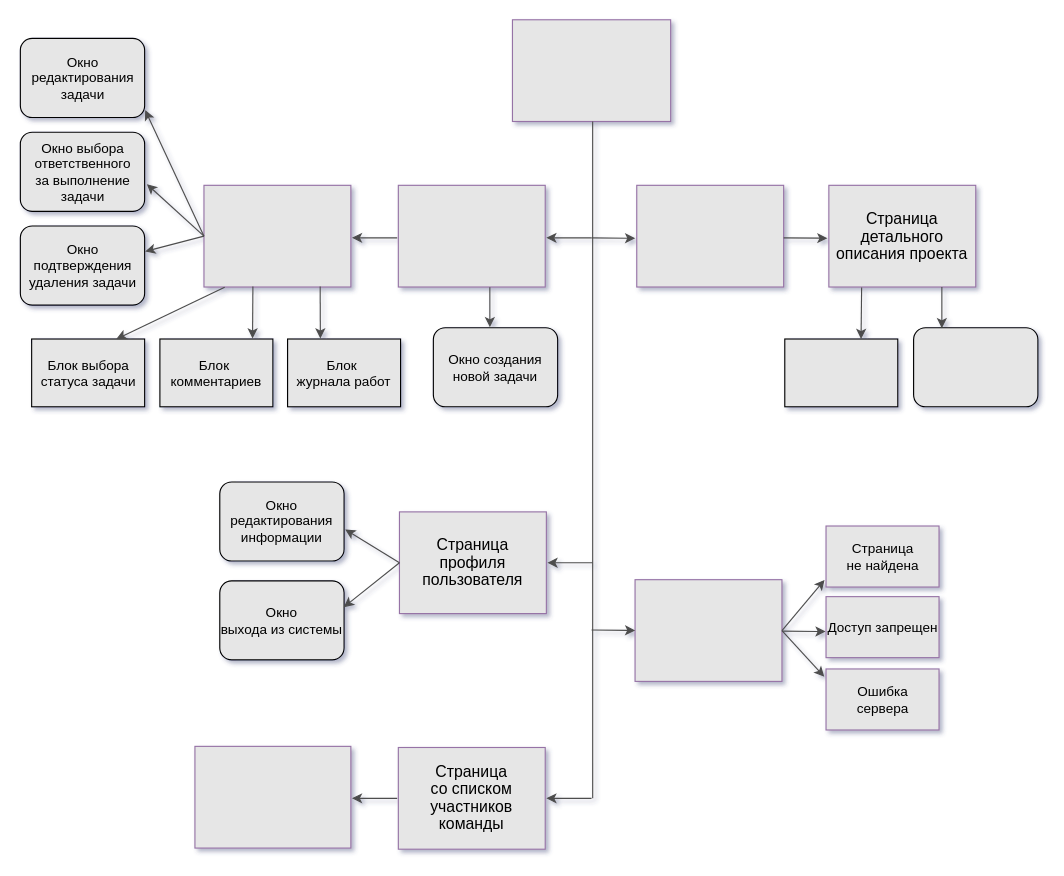
The diagram is 1064 pixels wide and 876 high, and some of its shapes have lost their labels. The shapes that lost their labels are listed below. From the top down, each one's box as (x1, y1, x2, y2) in pixels, then its label:
(511, 19, 671, 121): Стартовая страница Авторизация
(203, 184, 351, 287): Страница детального описания задачи
(397, 184, 545, 287): Главная страница со списком задач
(636, 184, 784, 287): Страница со списком проектов
(784, 338, 898, 407): Блок документации
(912, 327, 1038, 407): Окно добавления документации
(634, 579, 782, 681): Страница ошибок
(194, 745, 351, 848): Страница профиля участника команды
